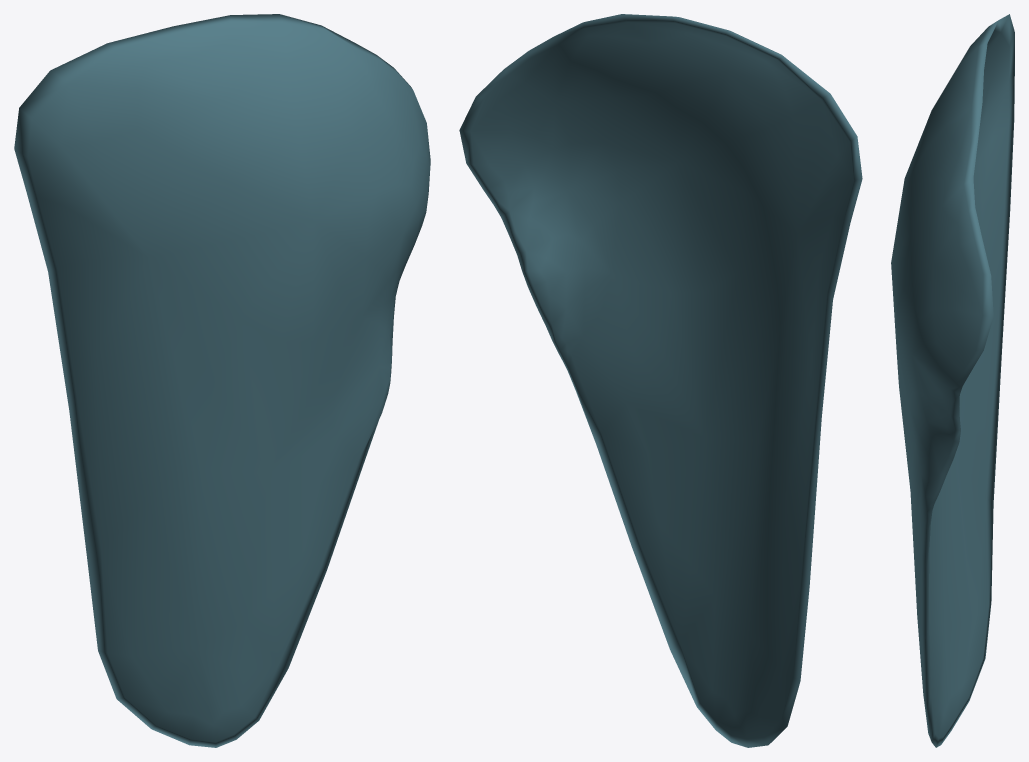
Rendered from Patellar_tendon_anterior_tibial_tuberosity_left.glb.
The picture shows the model from 3 angles, left to right: view 1: azimuth 30°, elevation 25°; view 2: azimuth 150°, elevation 25°; view 3: azimuth 270°, elevation 25°; orthographic projection. The views are drawn at different scales.
Parts seen in each view (by area): view 1: Patellar_tendon_on_anterior_tibial_tuberosity.l_Generated_Me; view 2: Patellar_tendon_on_anterior_tibial_tuberosity.l_Generated_Me; view 3: Patellar_tendon_on_anterior_tibial_tuberosity.l_Generated_Me.
Part boxes in pixels (left/top/right/bottom): Patellar_tendon_on_anterior_tibial_tuberosity.l_Generated_Me: left=14, top=14, right=430, bottom=747; Patellar_tendon_on_anterior_tibial_tuberosity.l_Generated_Me: left=459, top=14, right=862, bottom=747; Patellar_tendon_on_anterior_tibial_tuberosity.l_Generated_Me: left=891, top=14, right=1014, bottom=747.
Size of the model in its own units: 0.0215 by 0.0365 by 0.00591.
